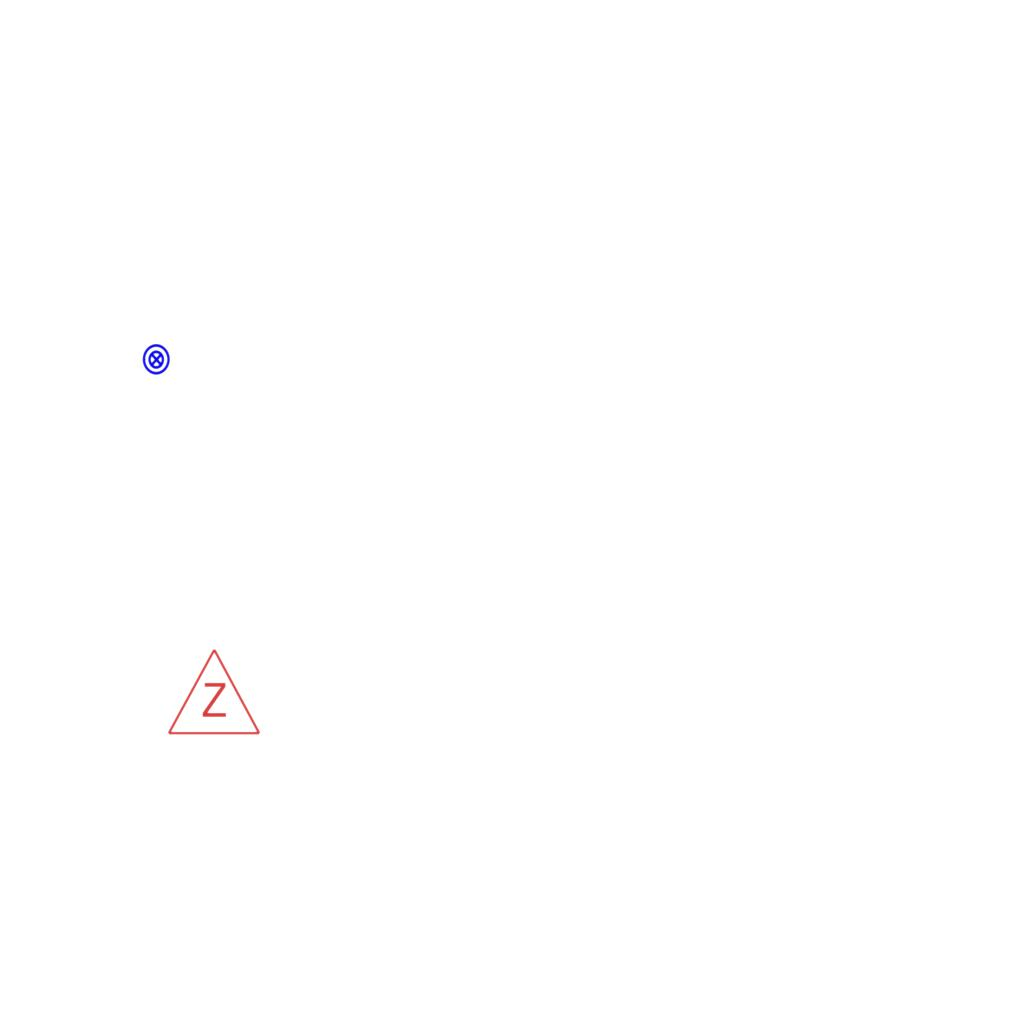Taster_beleuchtet: (140, 343, 173, 376)
Zimmersignalleuchte: (164, 642, 262, 742)
